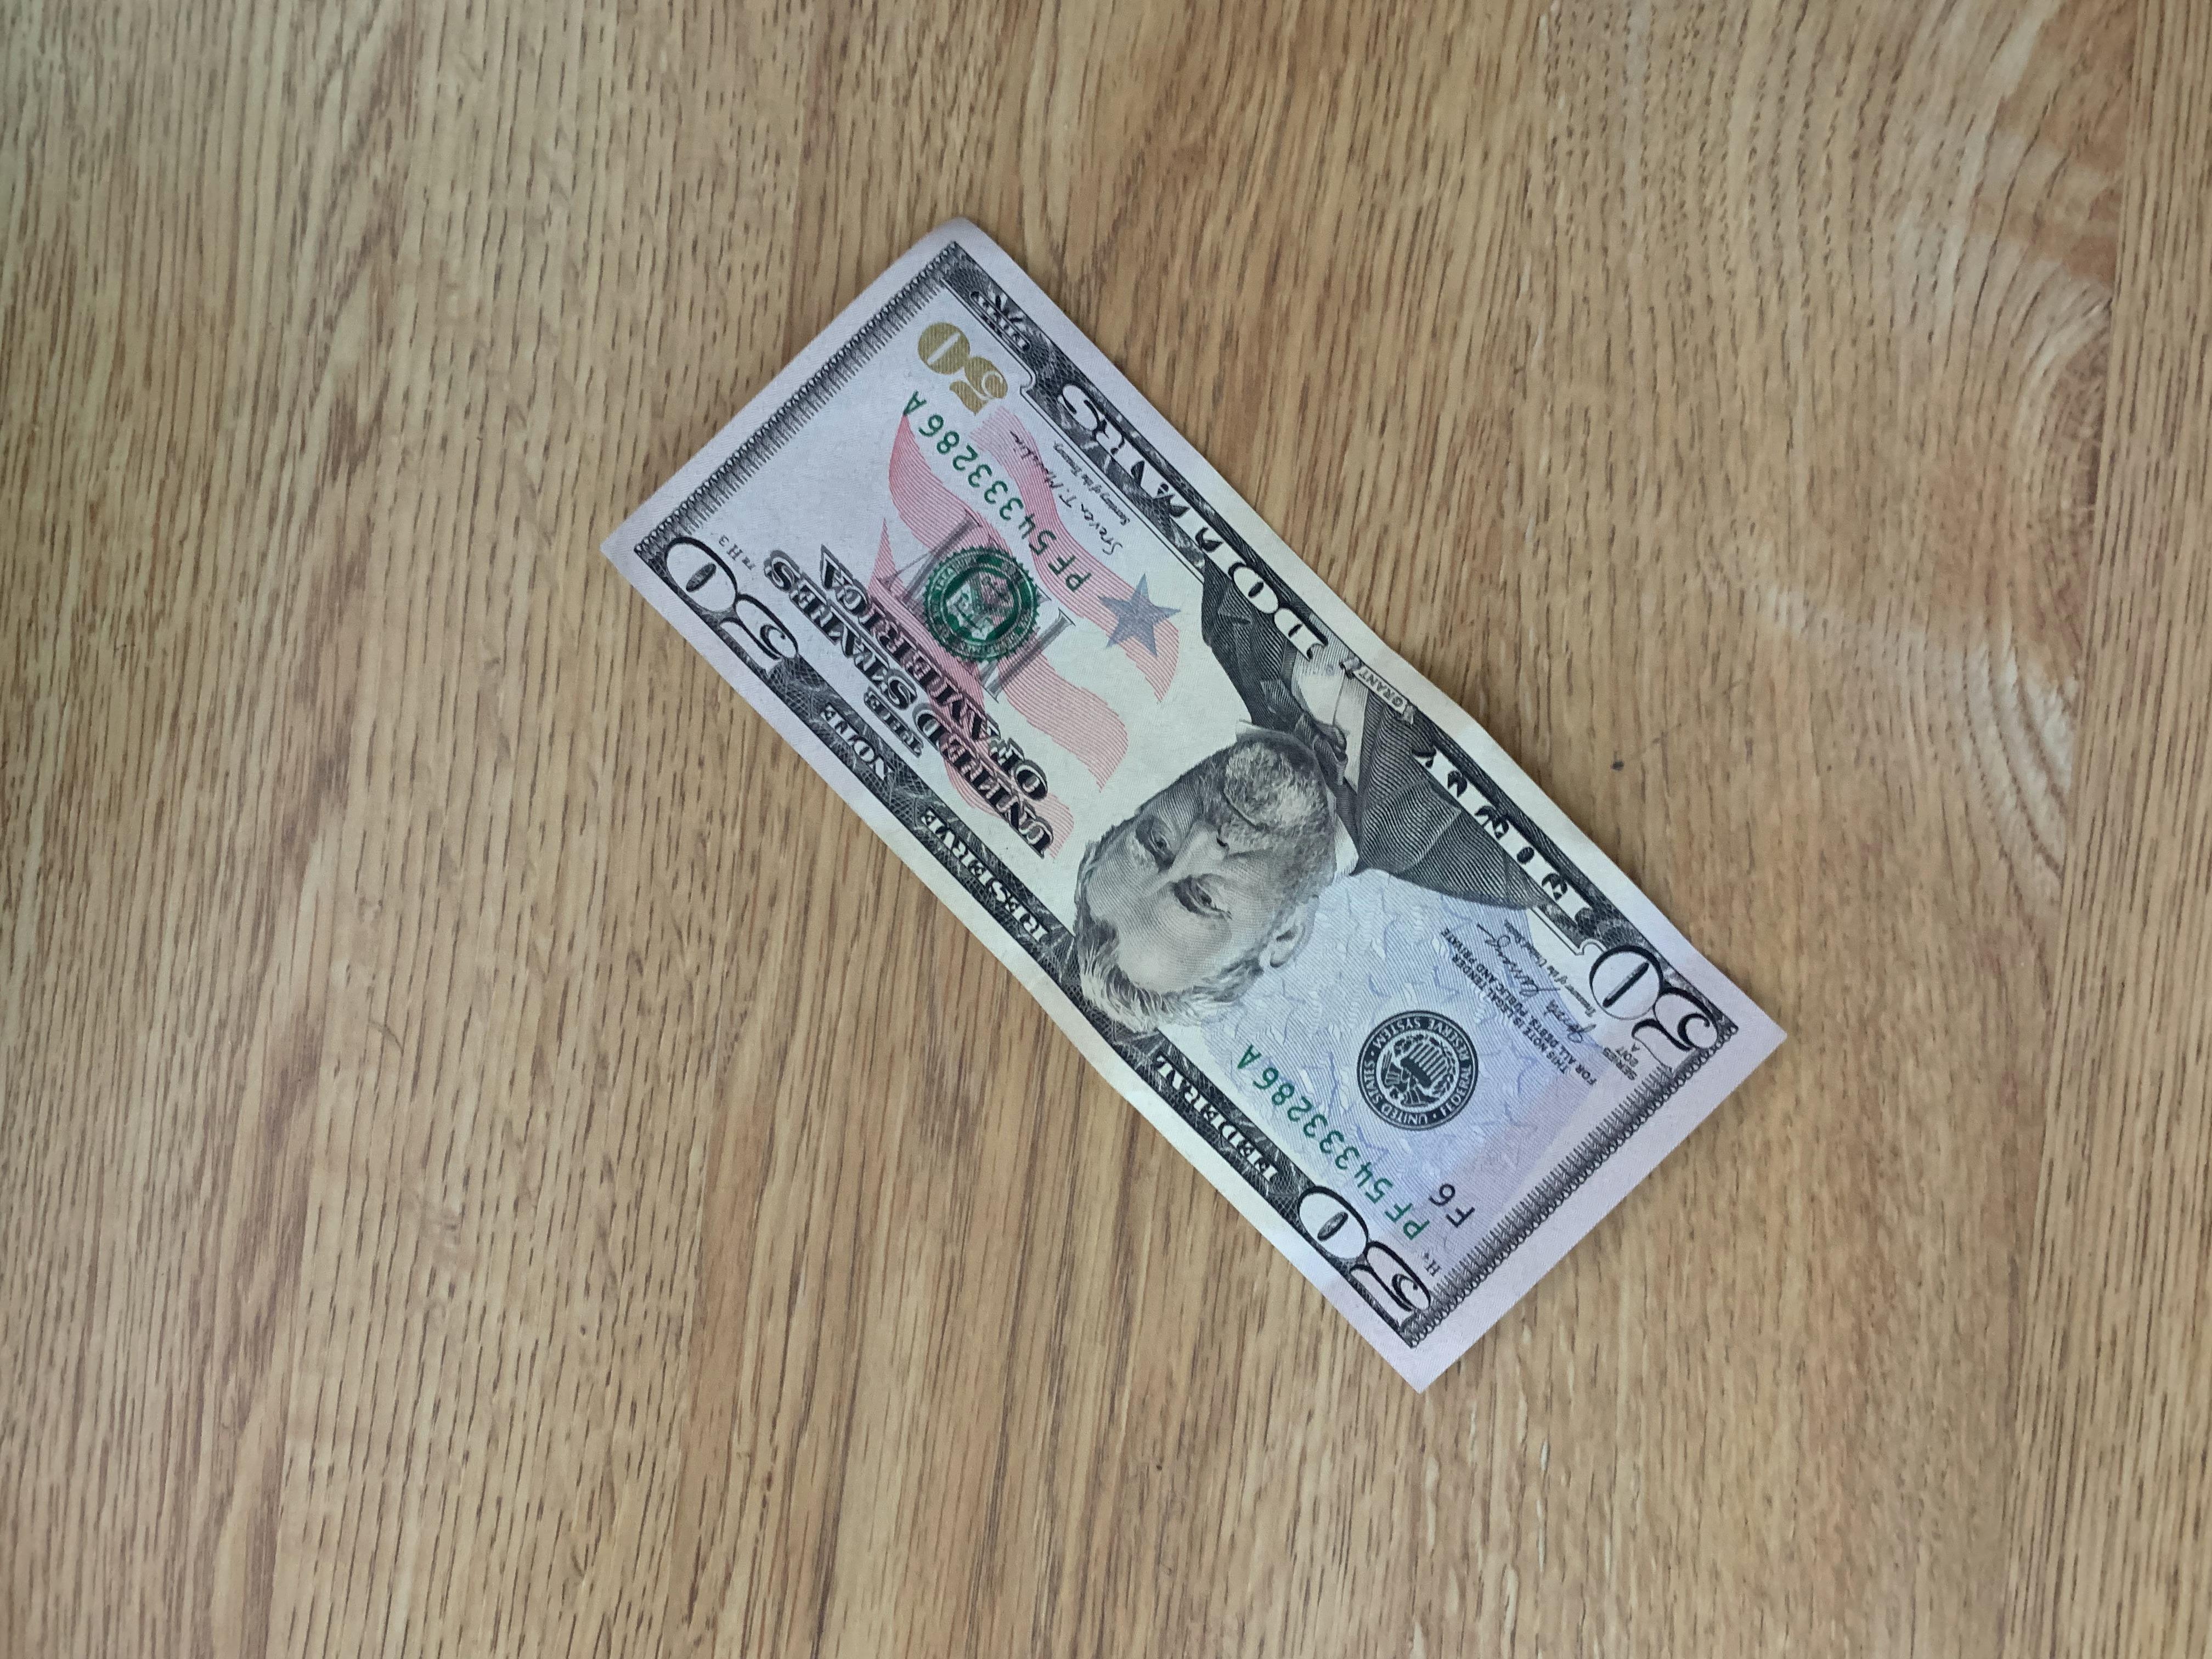FiftyBill: (601, 209, 1789, 1387)
